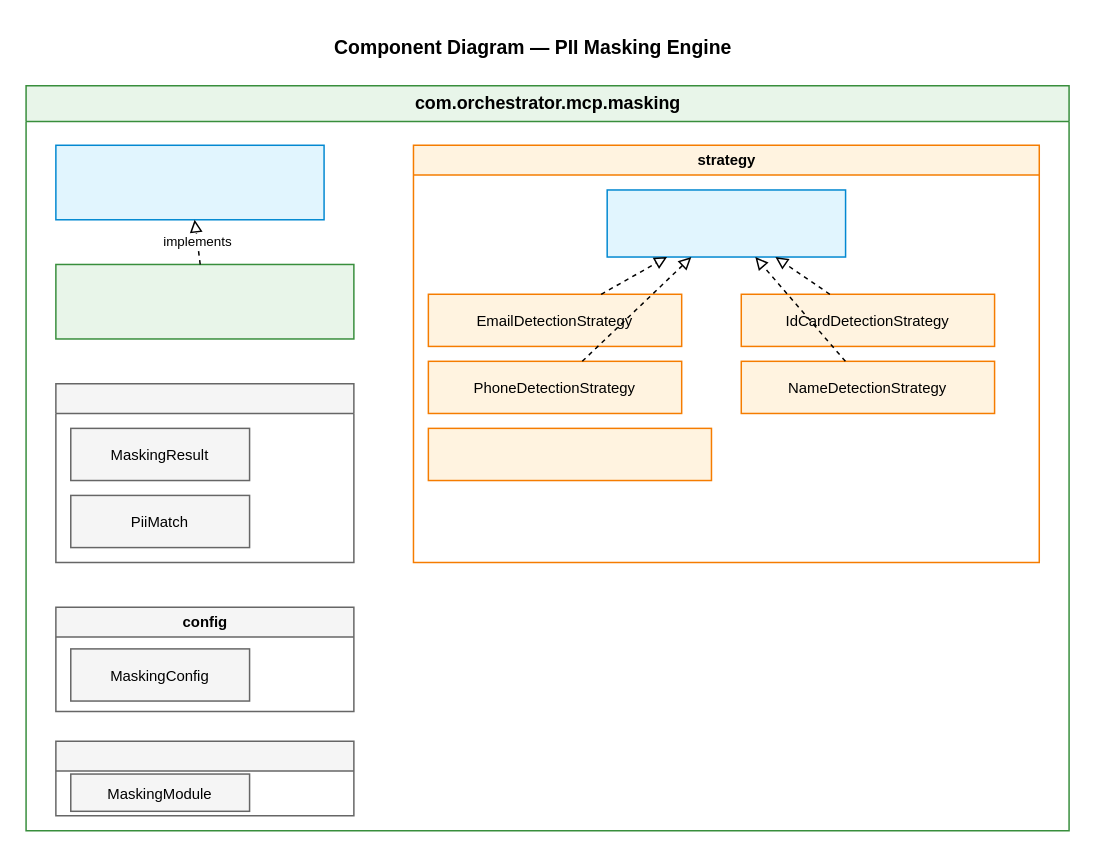
The diagram is 1095 pixels wide and 857 high, and some of its shapes have lost their labels. The box of each missing label's shape, as (x1, y1, x2, y2) in pixels:
<<interface>> PiiDetectionStrategy: (606, 188, 846, 257)
<<interface>> PiiMaskingEngine: (54, 144, 324, 220)
BankAccountDetectionStrategy: (427, 427, 711, 481)
di: (54, 740, 354, 816)
model: (54, 382, 354, 562)
PiiMaskingEngineImpl + mask(text): MaskingResult: (54, 263, 354, 339)
